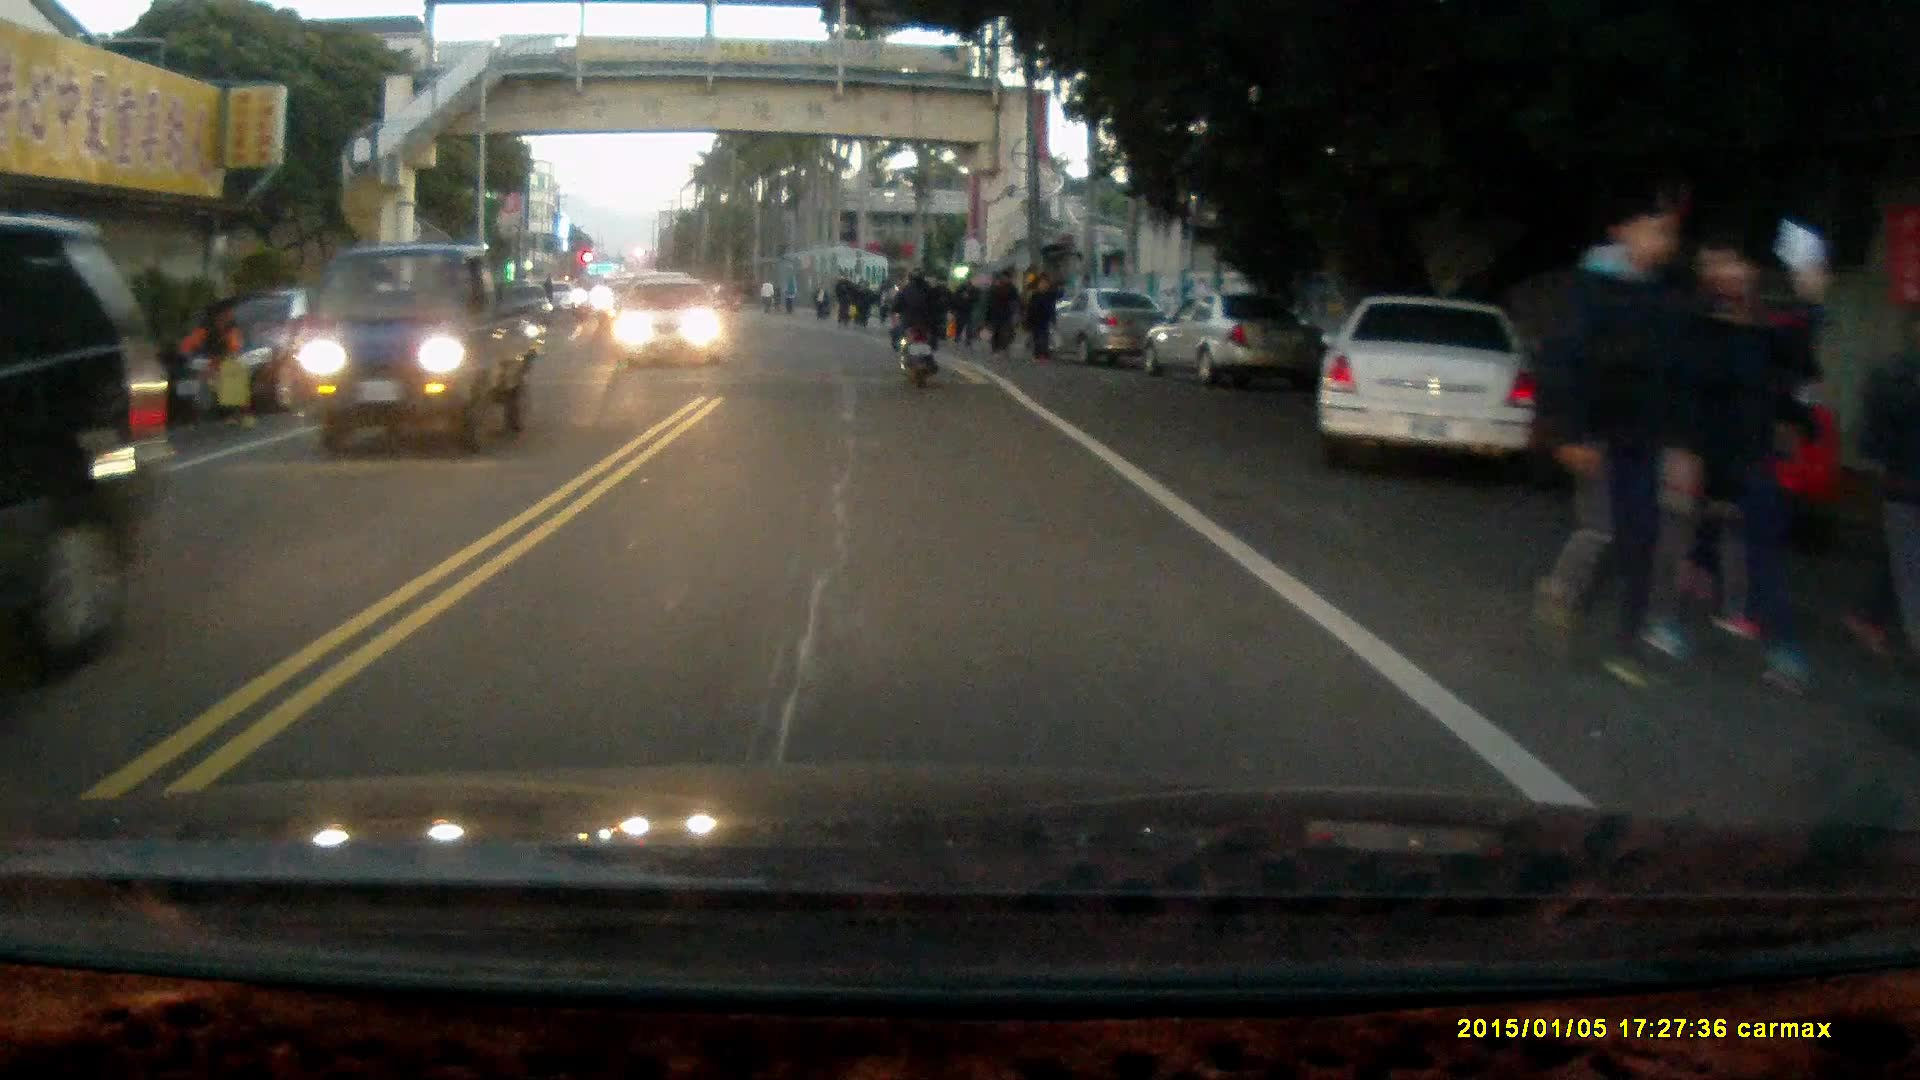pedestrian: (1647, 225, 1837, 700), (1530, 183, 1707, 688), (1850, 303, 1920, 662), (997, 262, 1028, 356), (984, 274, 1013, 365), (1028, 279, 1056, 358), (951, 270, 977, 347)
rider: (881, 264, 945, 389)
vehicle: (1, 213, 179, 666), (293, 242, 551, 461), (1318, 292, 1540, 465), (187, 286, 391, 418), (1151, 293, 1319, 394), (1045, 288, 1173, 369), (615, 279, 724, 367)
